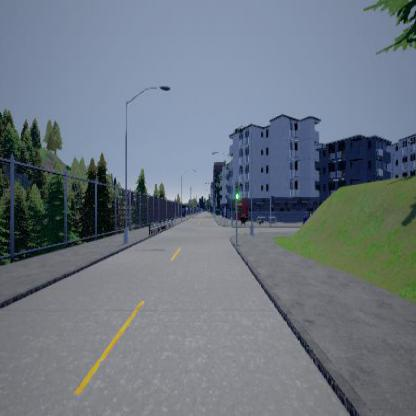traffic_light_green: (235, 176, 238, 203)
